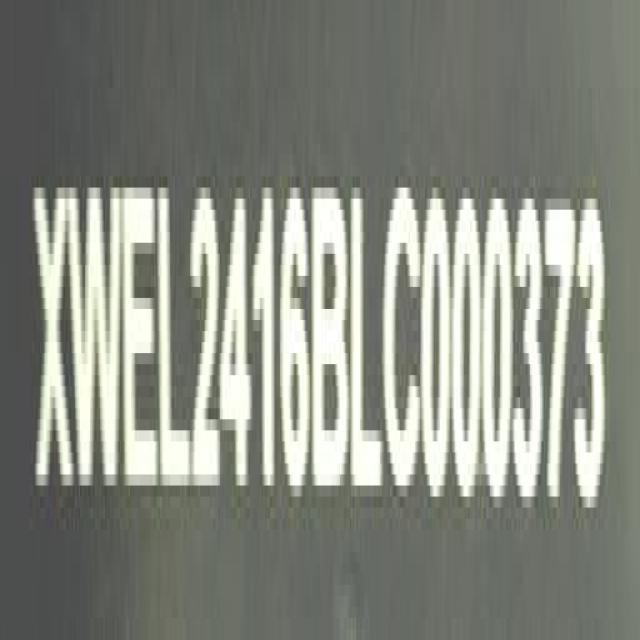0: (450, 176, 482, 511), (418, 180, 451, 498), (481, 184, 514, 499)
1: (252, 180, 276, 498)
2: (189, 180, 222, 507)
3: (512, 184, 545, 511), (578, 180, 606, 511)
4: (220, 188, 252, 511)
6: (278, 164, 311, 498)
7: (544, 192, 576, 523)
B: (310, 168, 350, 502)
C: (383, 163, 423, 502)
E: (119, 188, 159, 499)
L: (349, 168, 384, 490), (157, 192, 190, 482)
W: (68, 180, 123, 498)
X: (33, 172, 74, 506)
